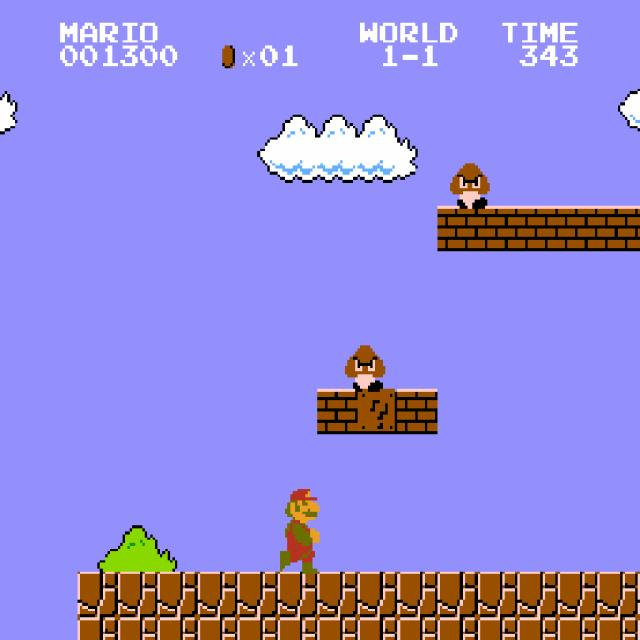big_mario: (277, 480, 320, 574)
brick_block: (317, 389, 358, 434), (397, 389, 438, 434), (437, 206, 478, 251), (477, 206, 518, 251), (517, 206, 558, 251), (557, 206, 598, 251), (597, 206, 638, 251), (637, 205, 640, 251)
goomba: (447, 160, 490, 208), (343, 343, 385, 391)
mystery_block: (357, 389, 398, 434)
undestructible_block: (77, 572, 118, 617), (117, 572, 158, 617), (157, 572, 198, 617), (197, 572, 238, 617), (237, 572, 278, 617), (277, 572, 318, 617), (317, 572, 358, 617), (357, 572, 398, 617), (397, 572, 438, 617), (437, 572, 478, 617), (477, 572, 518, 617), (517, 572, 558, 617), (557, 572, 598, 617), (597, 572, 638, 617), (77, 617, 118, 640), (117, 617, 158, 640), (157, 617, 198, 640), (197, 617, 238, 640), (237, 617, 278, 640), (277, 617, 318, 640), (317, 617, 358, 640), (357, 617, 398, 640), (397, 617, 438, 640), (437, 617, 478, 640), (477, 617, 518, 640), (517, 617, 558, 640), (557, 617, 598, 640), (597, 617, 638, 640), (637, 571, 640, 617), (637, 617, 640, 639)
